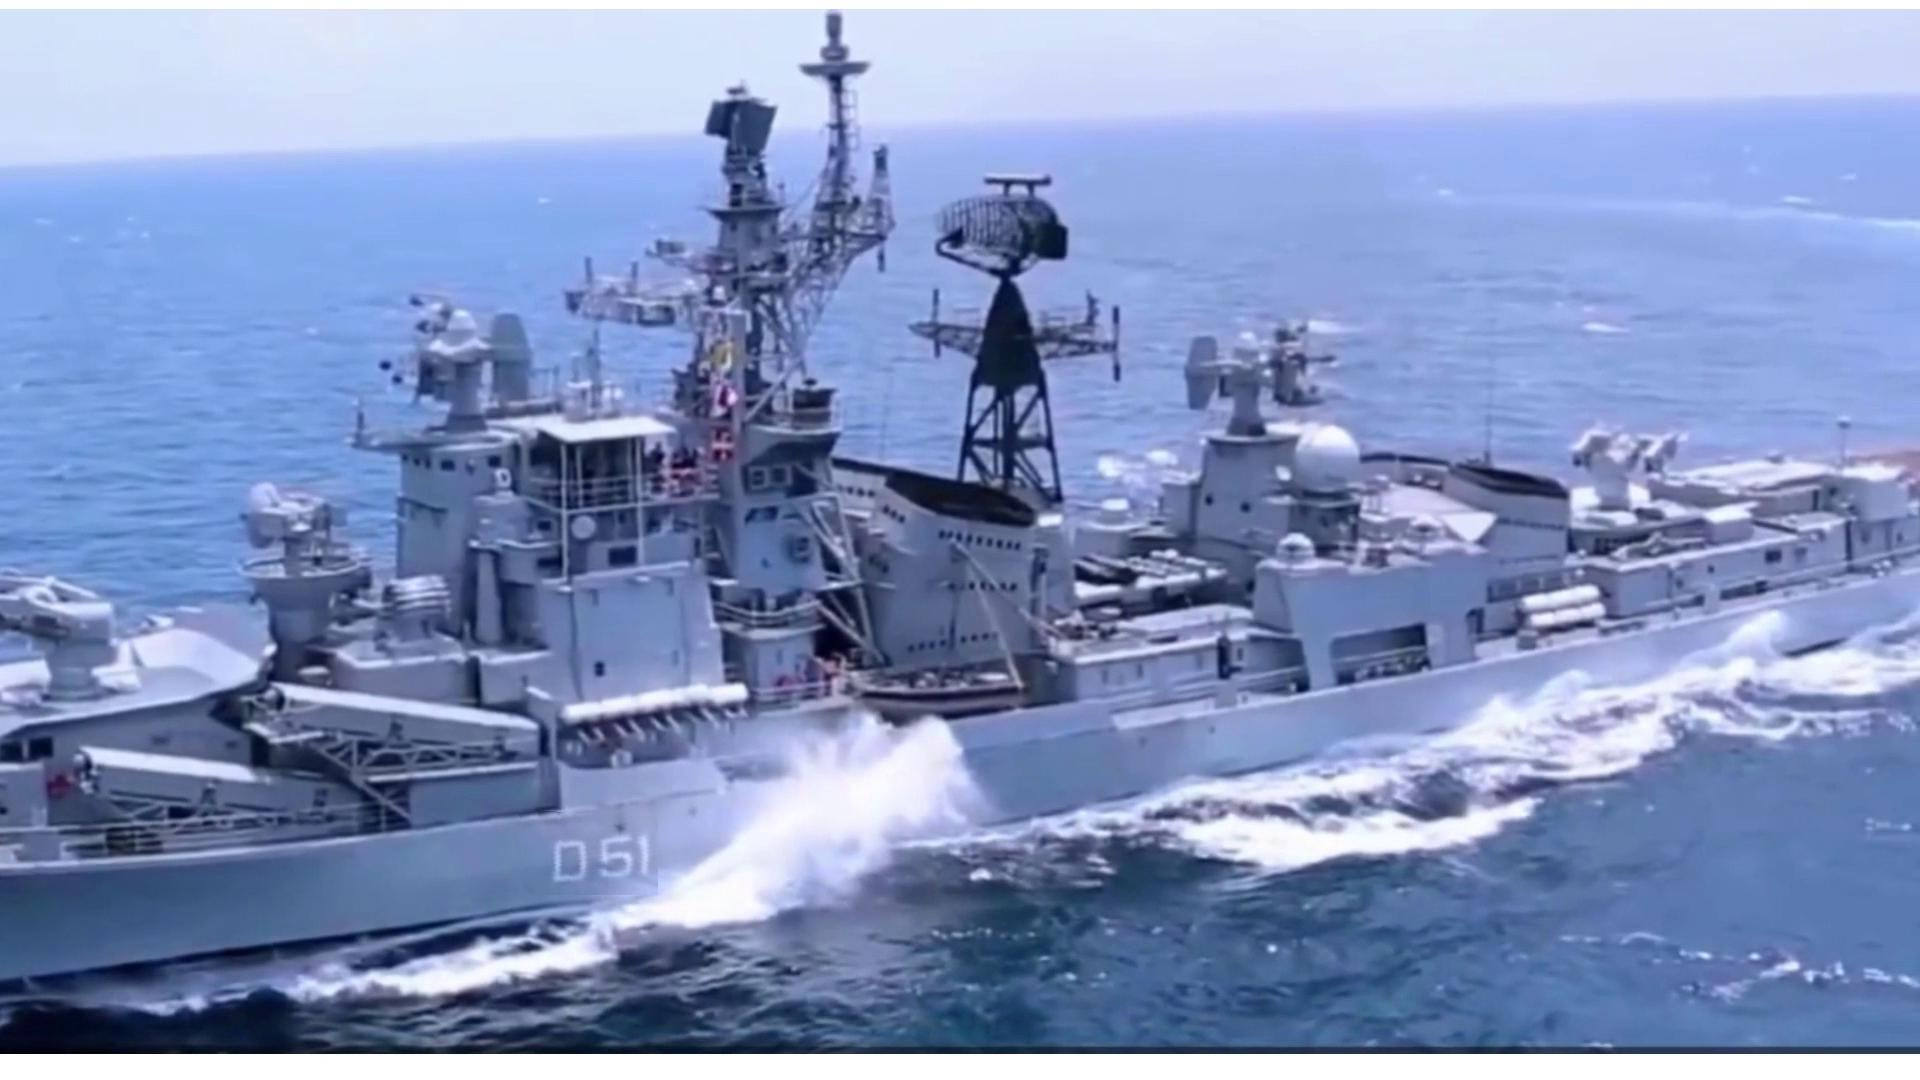OCR: (508, 808, 658, 895)
